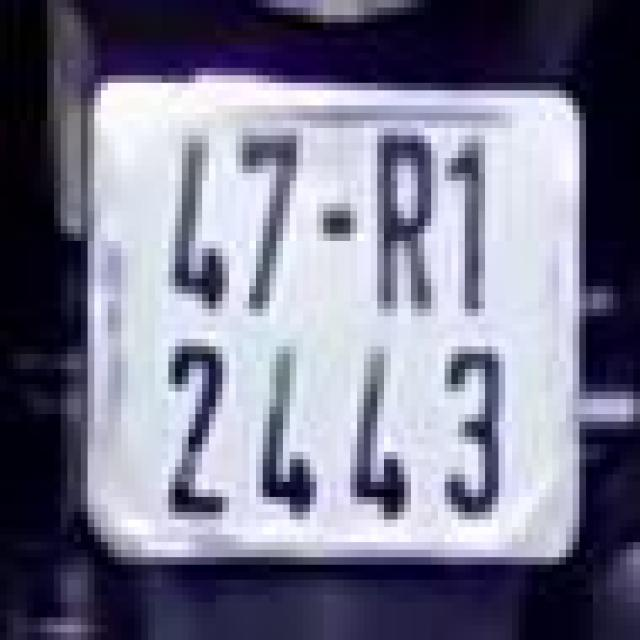1: (444, 120, 498, 316)
2: (152, 335, 239, 531)
3: (431, 339, 519, 519)
4: (340, 312, 414, 531), (162, 120, 229, 316), (256, 324, 317, 527)
7: (232, 120, 314, 316)
R: (370, 124, 444, 320)
